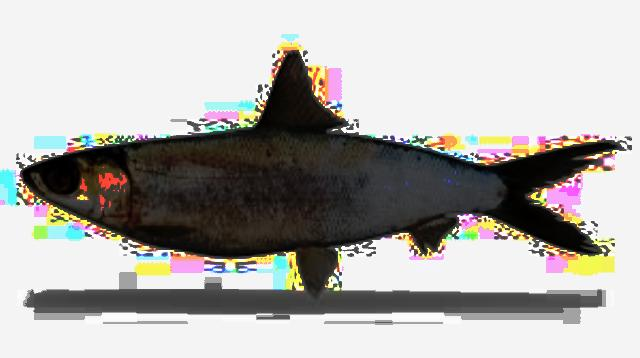Healthy Fish: (23, 53, 612, 297)
